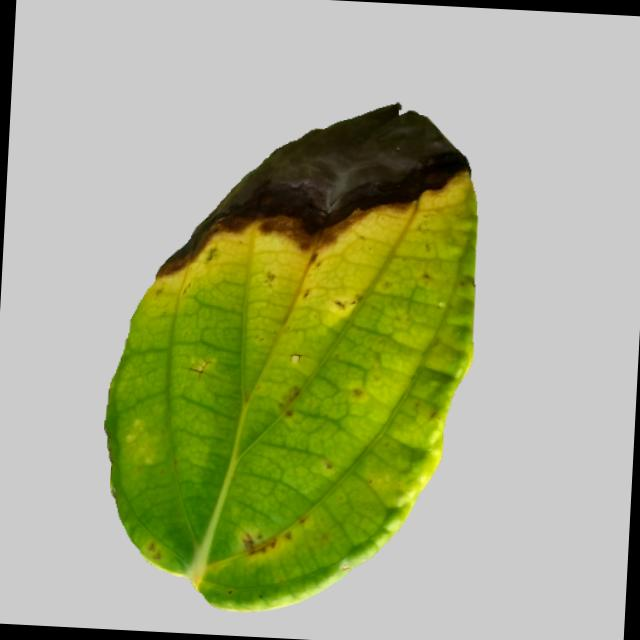leaf-blight: (83, 86, 498, 615)
